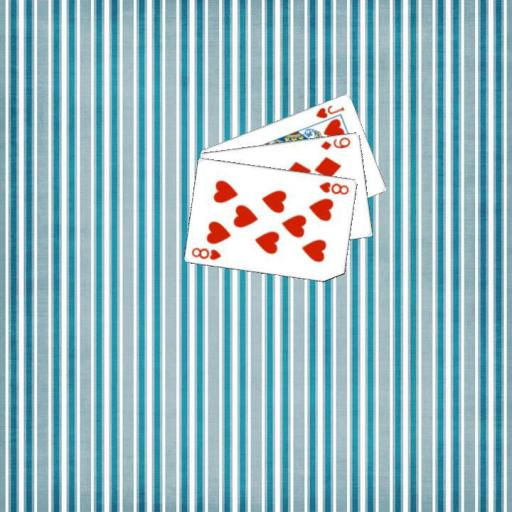8H: (317, 179, 351, 197), (189, 244, 223, 262)
9D: (318, 135, 352, 152)
JH: (313, 102, 345, 120)
